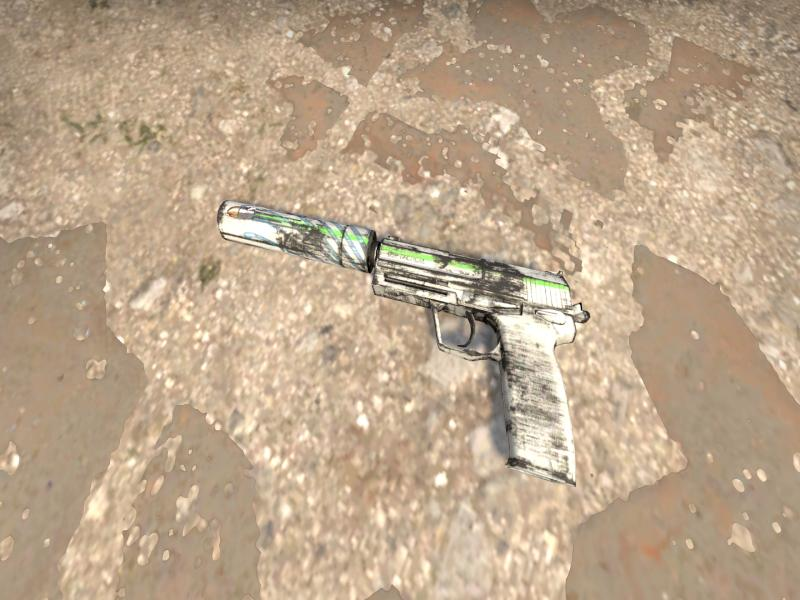USP: (218, 201, 590, 484)
